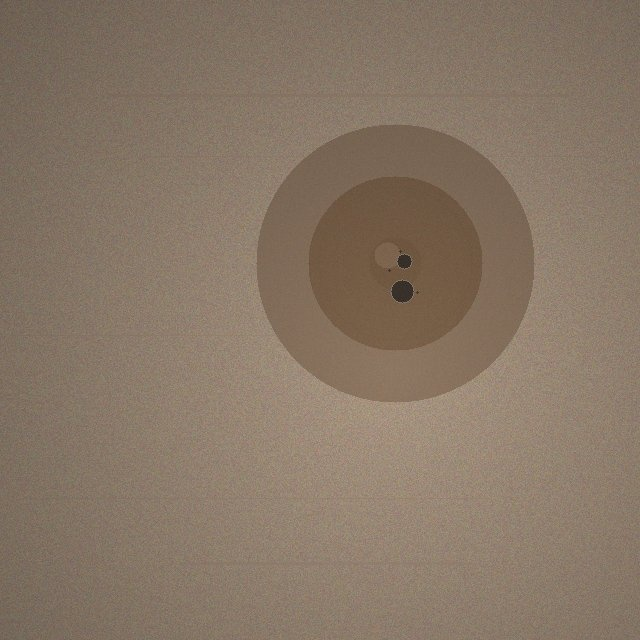shrinkage: (256, 124, 534, 402)
